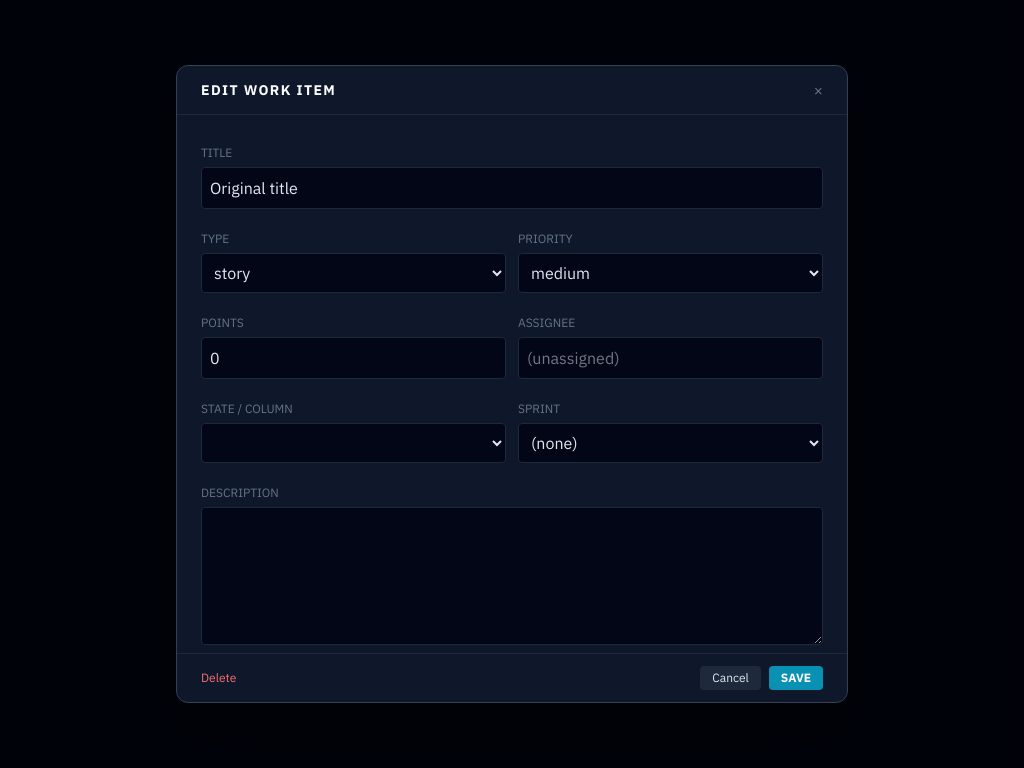
Test: WorkItemEditor delete › deletes the work item, notifies the parent, and closes when the dialog is confirmed
This screenshot has width=1024, height=768.
Click the button "Delete" at (219, 678), box [201,670,236,686]
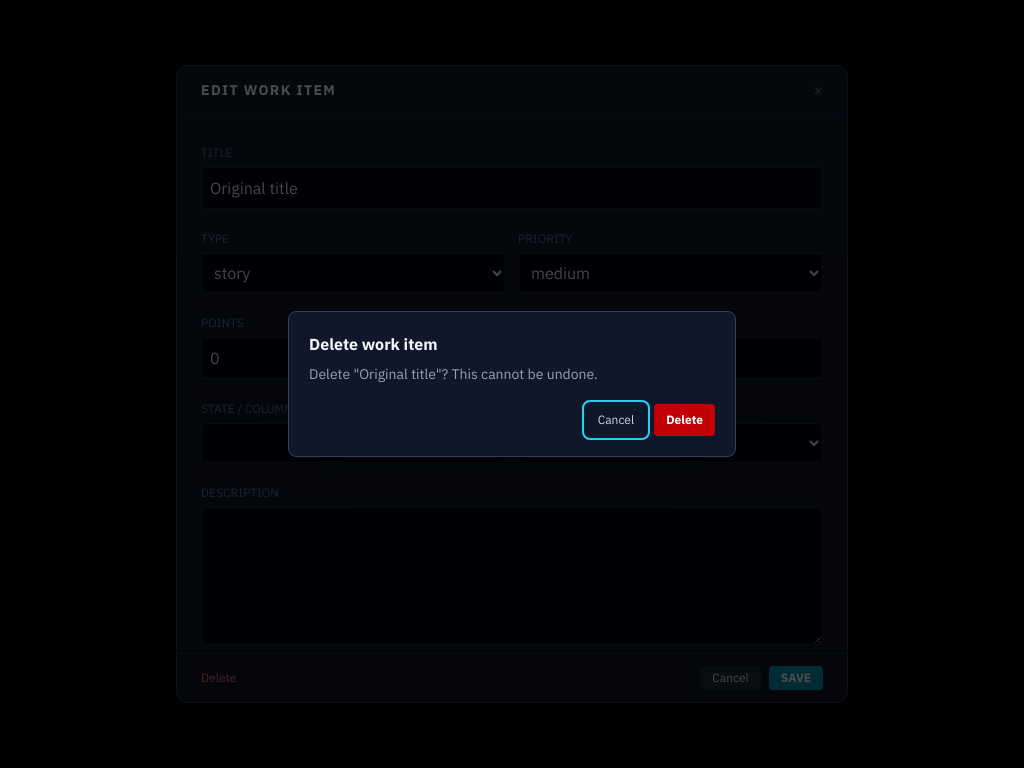
Click the button "Delete" at (685, 420), box [654,404,715,436]
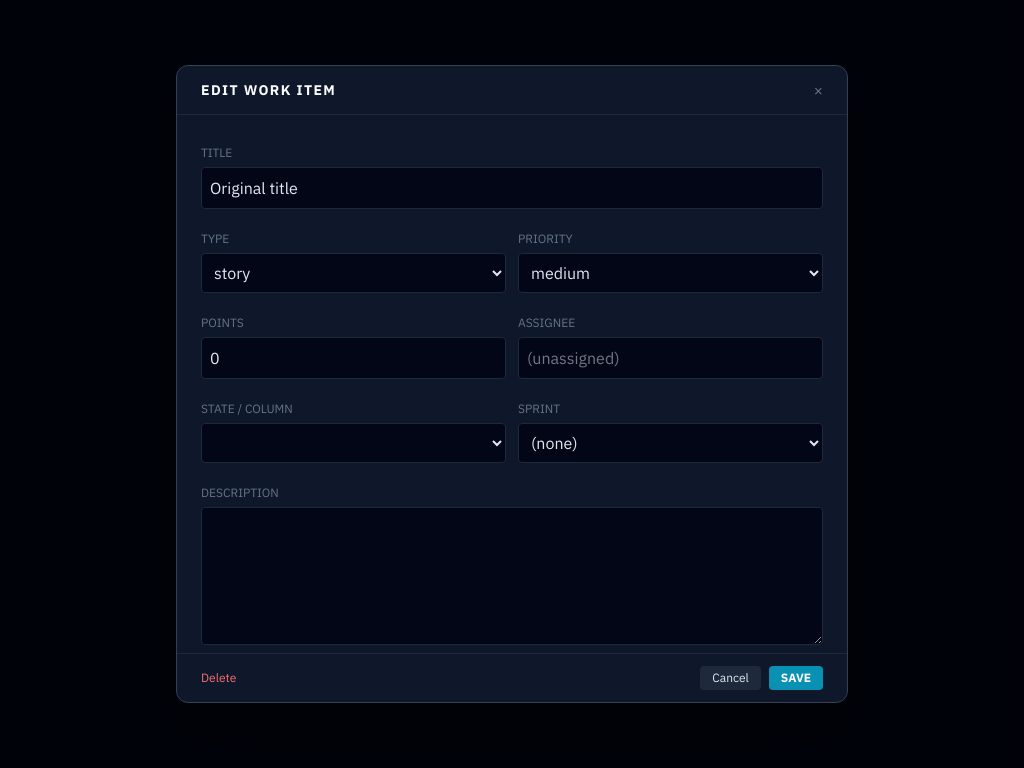
Now the dialog is gone
